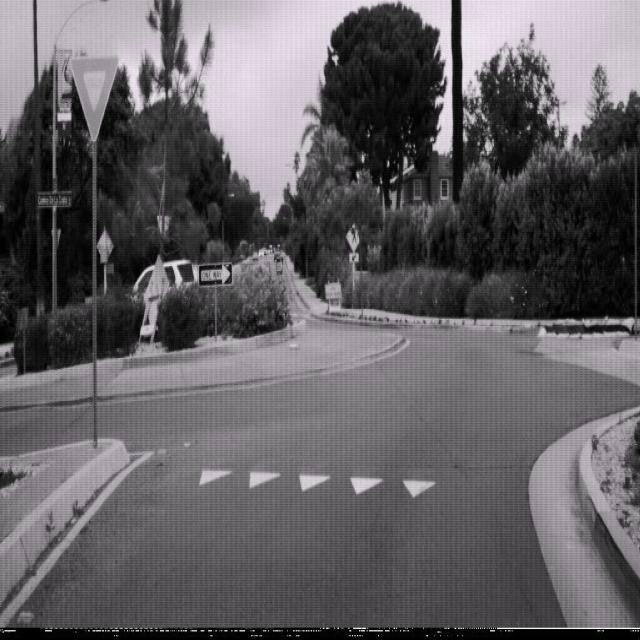yield: (569, 62, 622, 157), (69, 53, 119, 142)
